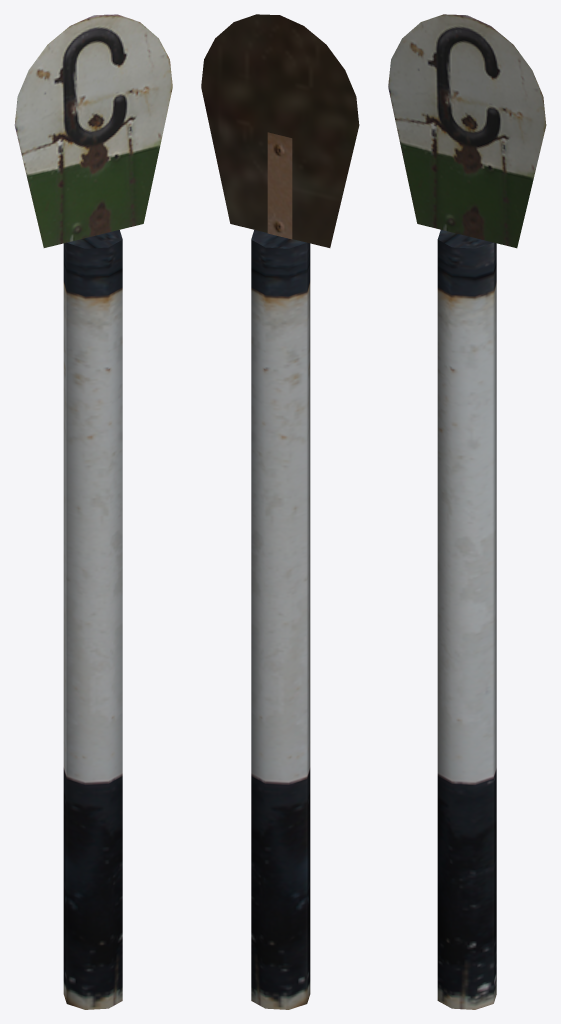
The model's file is Znak_S_KM_ZnakSignal.gltf.
3 renders of one model, left to right at view 1: azimuth 30°, elevation 25°; view 2: azimuth 150°, elevation 25°; view 3: azimuth 330°, elevation 25°, orthographic.
Bounding box in the file's own units: 0.353 × 2.1 × 0.1183.
Materials: 1 (1 with a texture image).
